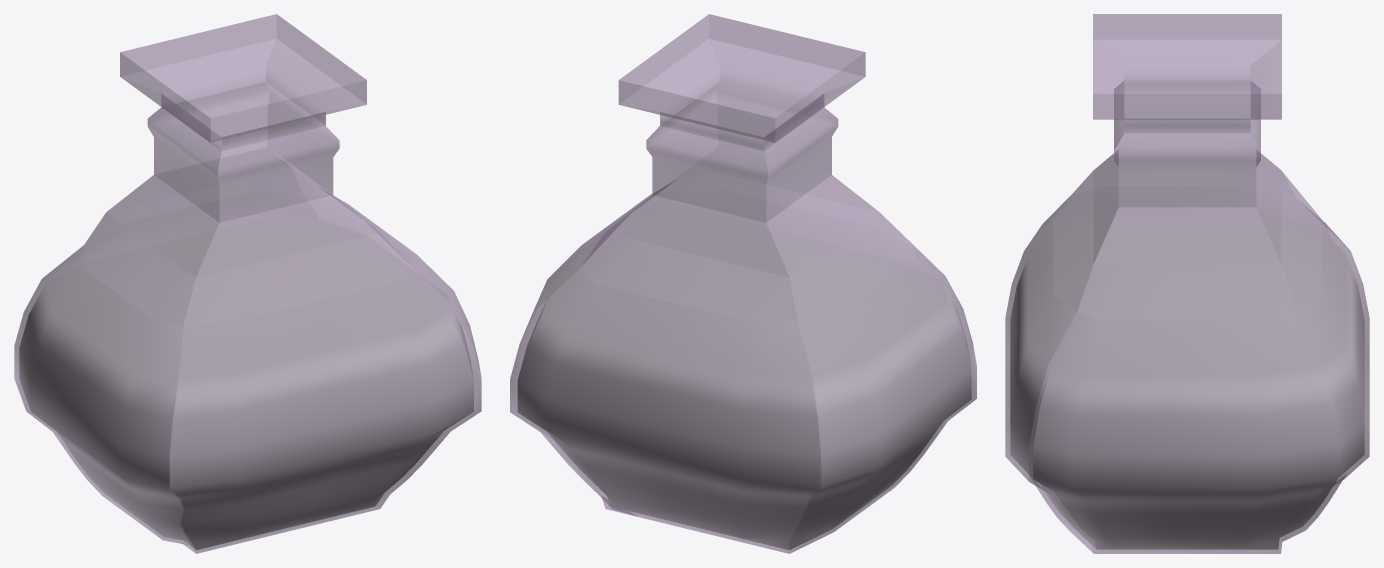
Rendered from flu_poison.fbx.
The picture shows the model from 3 angles, left to right: view 1: azimuth 30°, elevation 25°; view 2: azimuth 150°, elevation 25°; view 3: azimuth 270°, elevation 25°; orthographic projection. The views are drawn at different scales.
Visible parts, largest first — view 1: fly_poison; view 2: fly_poison; view 3: fly_poison.
Boxes of the visible parts, x1,y1,x2,y2 form: fly_poison: [14, 14, 481, 553]; fly_poison: [510, 14, 976, 553]; fly_poison: [1005, 14, 1369, 553].
Bounding box in the file's own units: 1.3 × 1.5 × 1.09.
